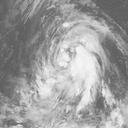cyclone: (34, 26, 96, 96)
